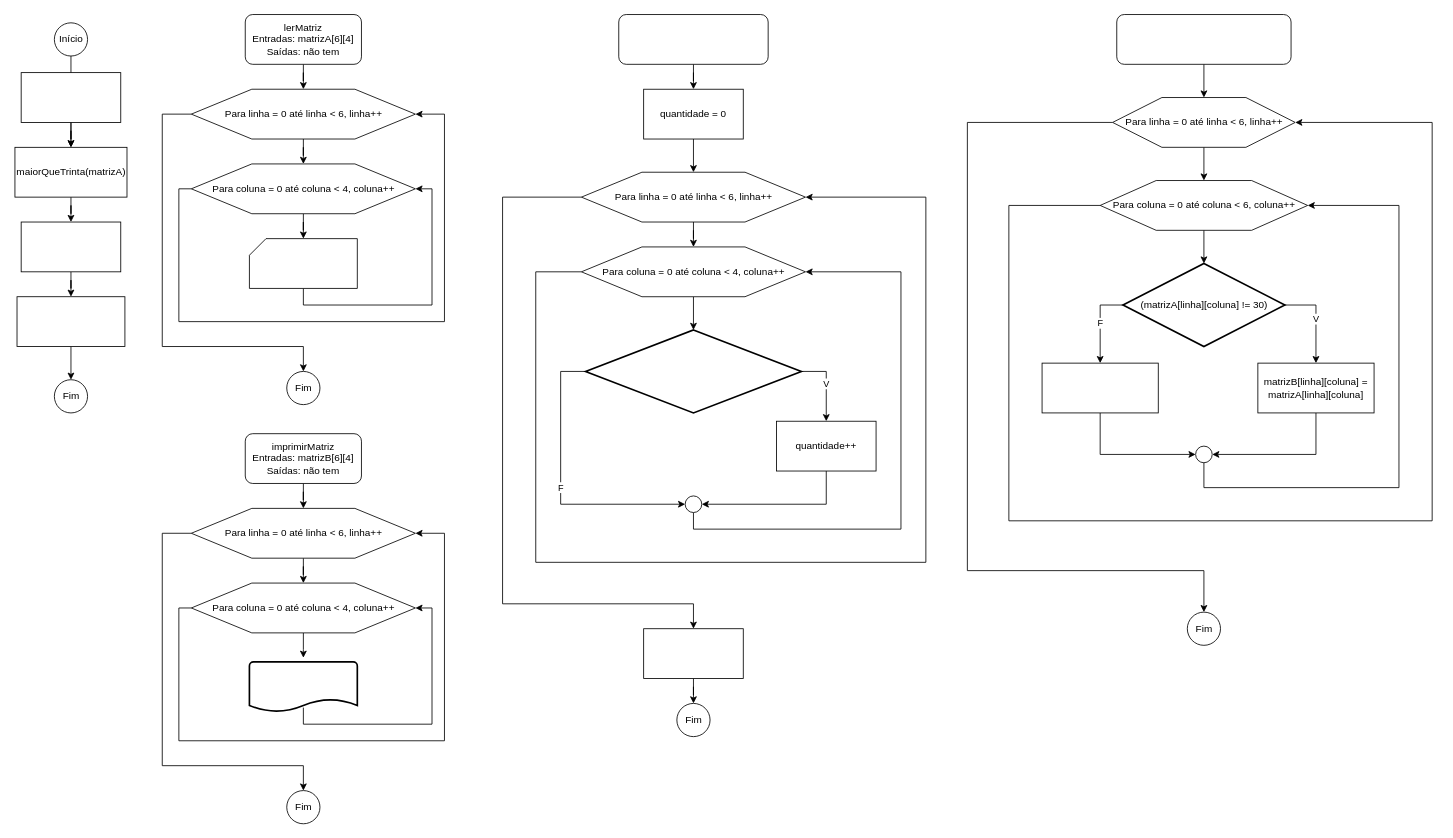
Image size: 1453x838. Some labels were removed from this diagram. Here are the shapes that lost their labels. From the top down, the centre of each, then its label:
(x=693, y=39): maiorQueTrinta Entradas: matrizA[6][4] Saídas: quantidade
(x=1203, y=39): montarMatriz Entradas: matrizA[6][4], matrizB[6][4] Saídas: não tem
(x=70, y=97): lerMatriz(matrizA)
(x=70, y=246): montarMatriz(matrizA, matrizB)
(x=303, y=263): matrizA[linha][coluna]
(x=70, y=321): imprimirMatriz(matrizB)
(x=693, y=371): (matriz[linha][coluna] > 30)
(x=1099, y=387): matrizB[linha][coluna] = 0
(x=693, y=653): Retorna quantidade
(x=303, y=686): matrizB[linha][coluna]
